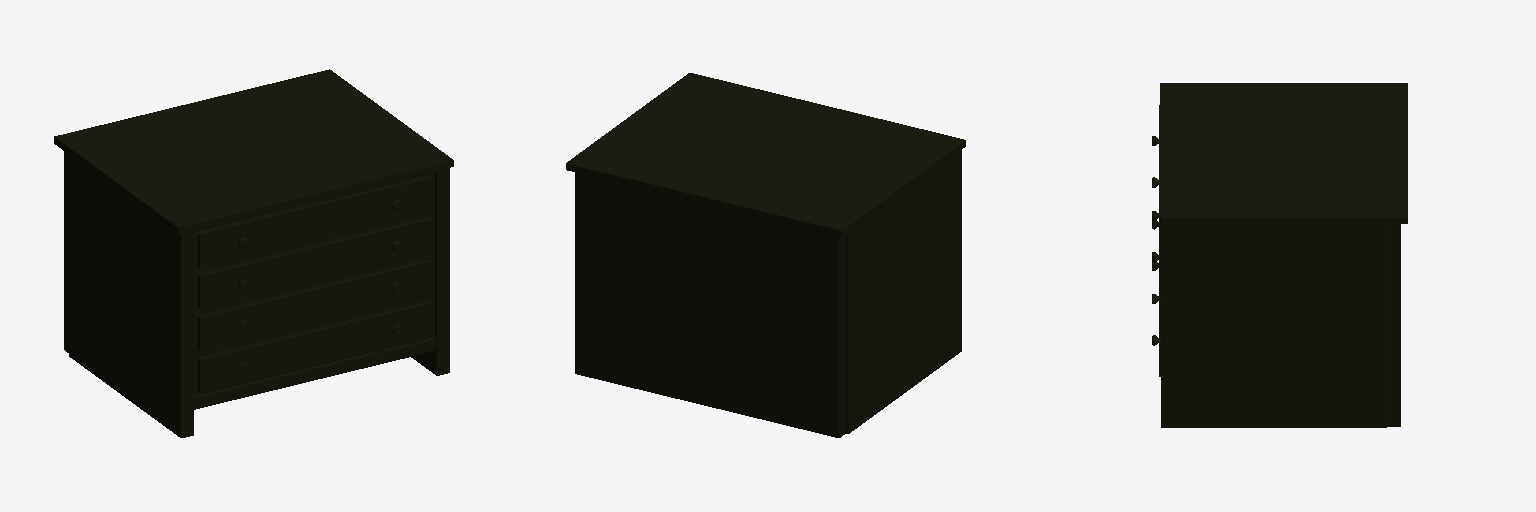
File: WideDrawer.obj
The picture shows the model from 3 angles: view 1: azimuth 30°, elevation 25°; view 2: azimuth 150°, elevation 25°; view 3: azimuth 270°, elevation 25°; orthographic projection.
Visible parts, largest first — view 1: pCube16, pCube15, pCylinder8; view 2: pCube16; view 3: pCube16.
Boxes of the visible parts, x1=… form: pCube16: x1=54, y1=69, x2=453, y2=437; pCube15: x1=194, y1=172, x2=434, y2=395; pCylinder8: x1=238, y1=200, x2=401, y2=371; pCube16: x1=566, y1=73, x2=965, y2=437; pCube16: x1=1160, y1=83, x2=1407, y2=427.
Size of the model in its own units: 141 by 103 by 113.